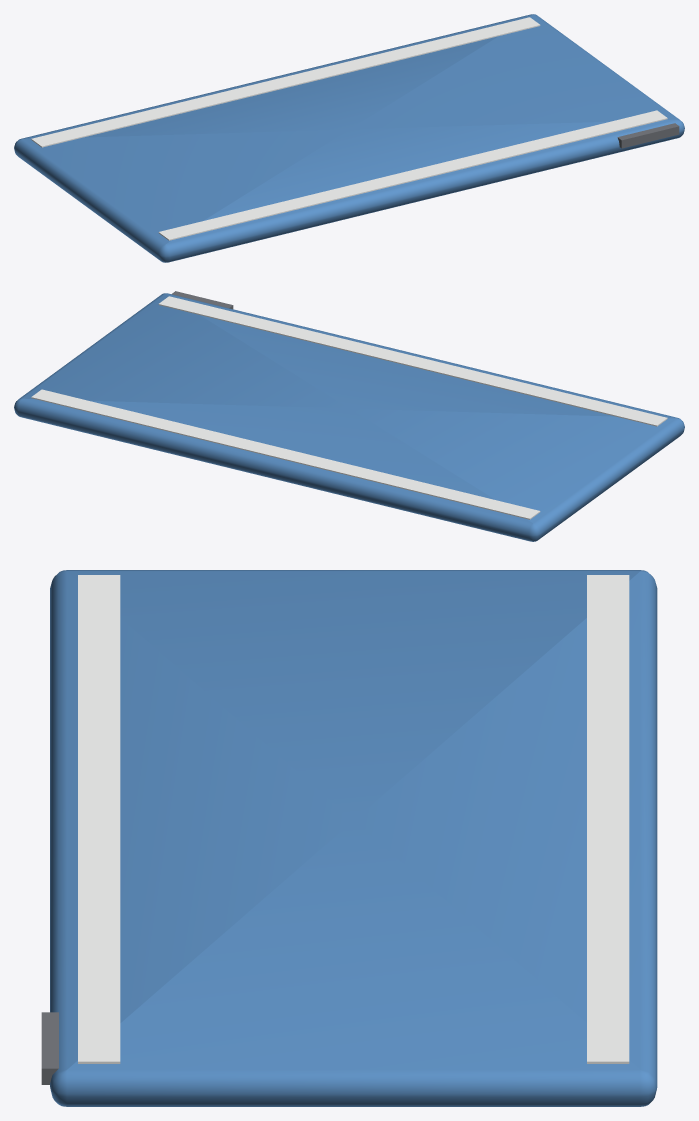
The model's file is community-sports-hall-and-changing-rooms-gym-mat-singl-70cf5ea8.glb.
The picture shows the model from 3 angles, top to bottom: view 1: azimuth 30°, elevation 25°; view 2: azimuth 150°, elevation 25°; view 3: azimuth 270°, elevation 25°; orthographic projection. The views are drawn at different scales.
Visible parts, largest first — view 1: gym-mat-single; view 2: gym-mat-single; view 3: gym-mat-single.
Boxes of the visible parts, x1,y1,x2,y2 form: gym-mat-single: (14, 14, 684, 262); gym-mat-single: (14, 291, 684, 541); gym-mat-single: (41, 570, 657, 1106).
Size of the model in its own units: 2 by 0.068 by 1.02.
